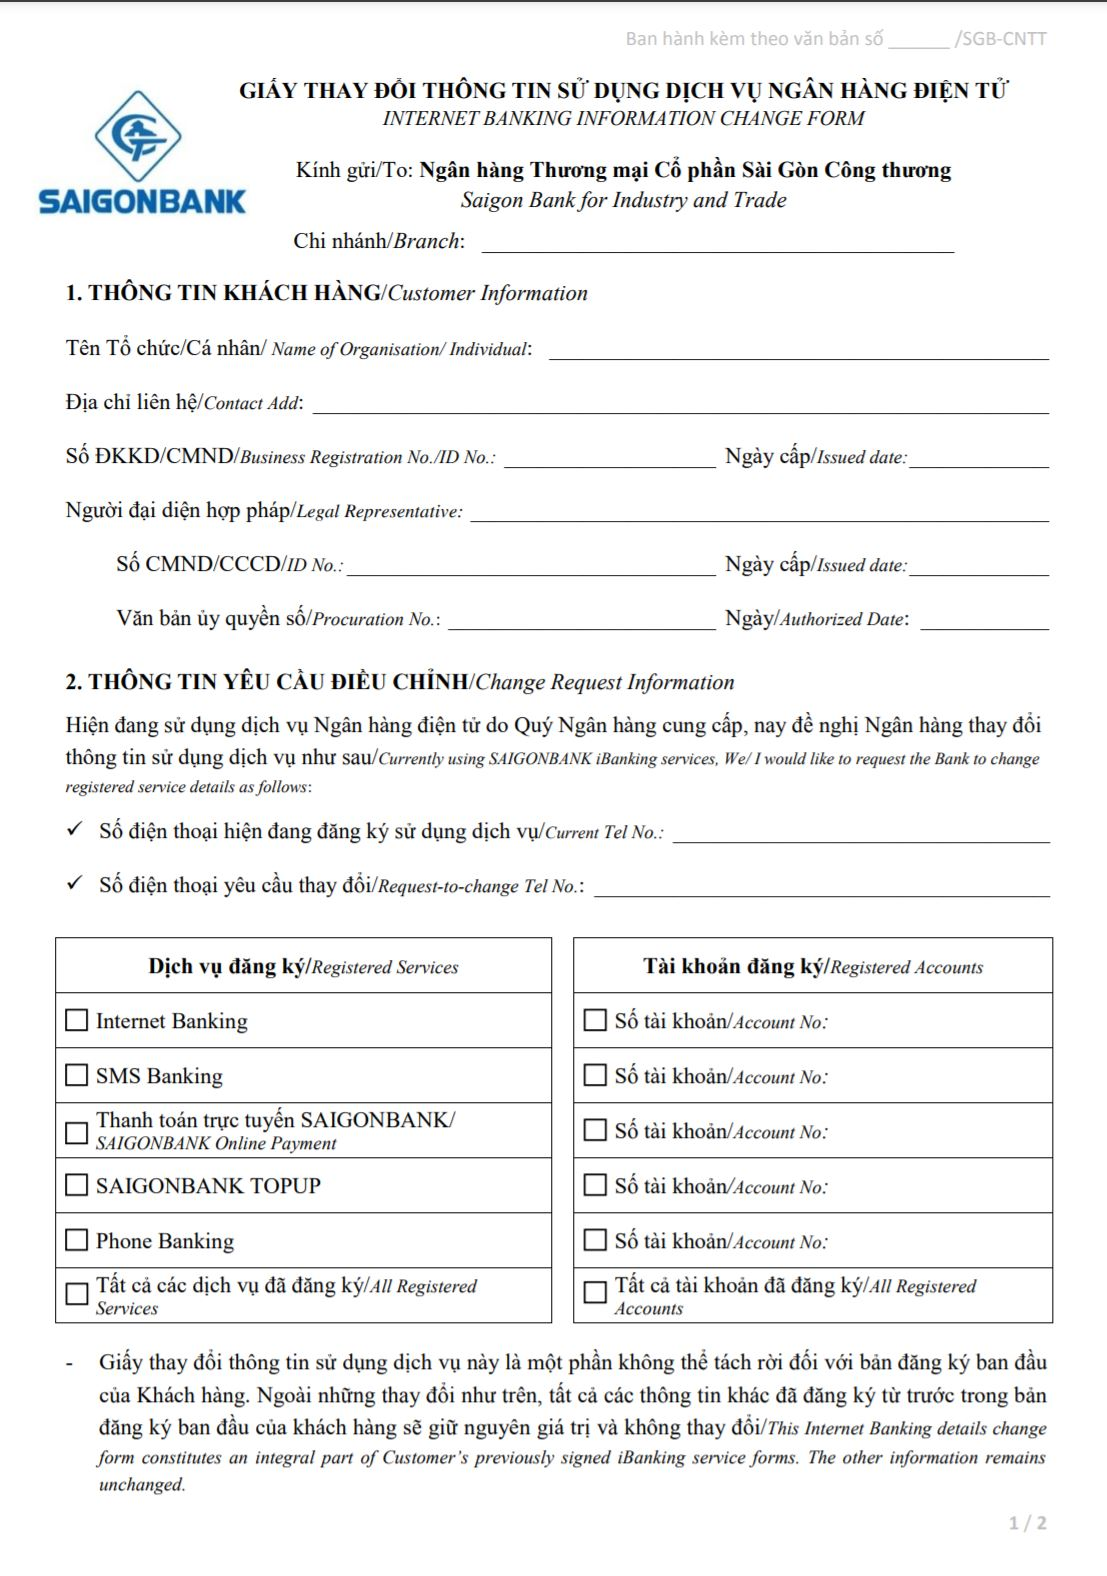box: (62, 1059, 93, 1092), (63, 1223, 95, 1254), (579, 1057, 610, 1089), (60, 1119, 92, 1148), (581, 1170, 611, 1202), (581, 1277, 610, 1308), (581, 1115, 610, 1145), (581, 1225, 610, 1255), (62, 1005, 91, 1034), (63, 1170, 92, 1199), (581, 1006, 609, 1036), (63, 1279, 92, 1307)
